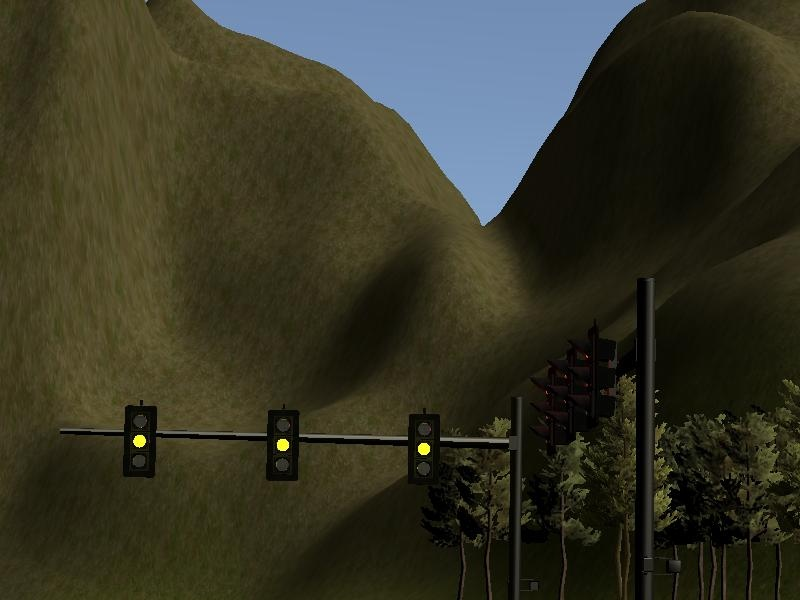YELLOW: (404, 409, 440, 485), (264, 405, 300, 481), (123, 401, 159, 477)
